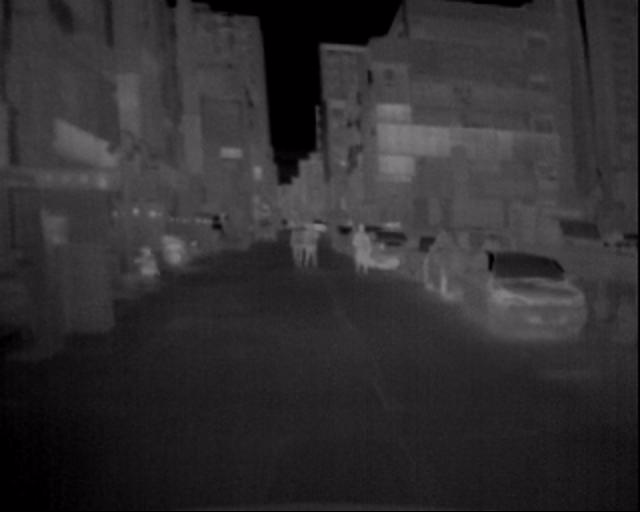person: (287, 202, 315, 277), (349, 206, 375, 282), (302, 211, 327, 278)
